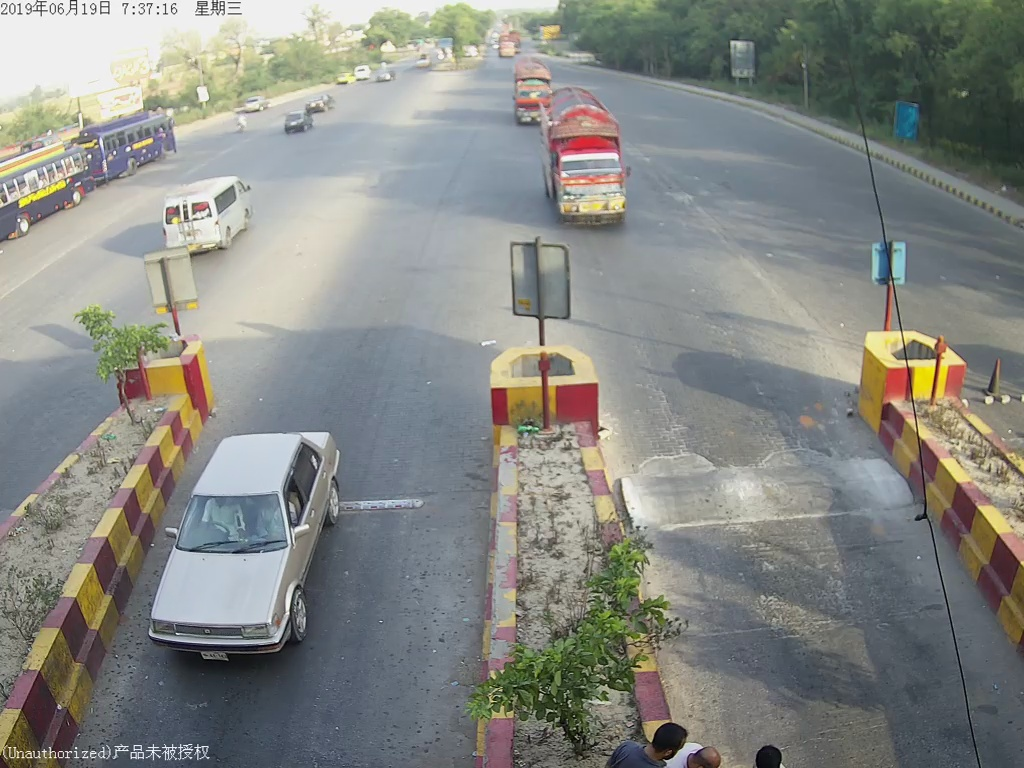Cat-1: (144, 418, 350, 662)
Cat-4: (539, 89, 635, 224), (509, 54, 559, 127)
